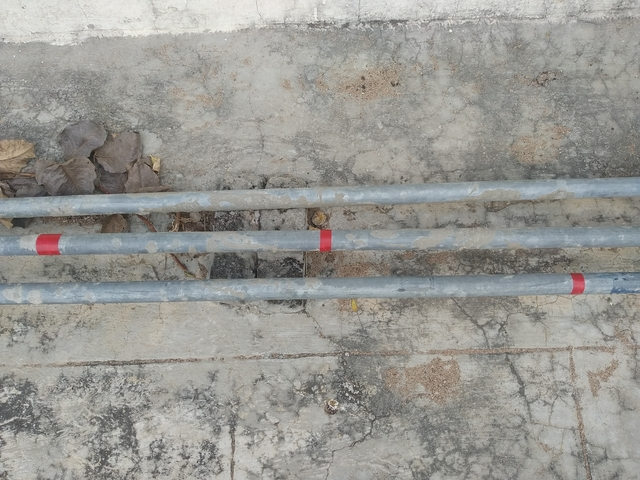rust: (33, 229, 65, 259), (315, 224, 336, 258), (567, 267, 587, 302)
